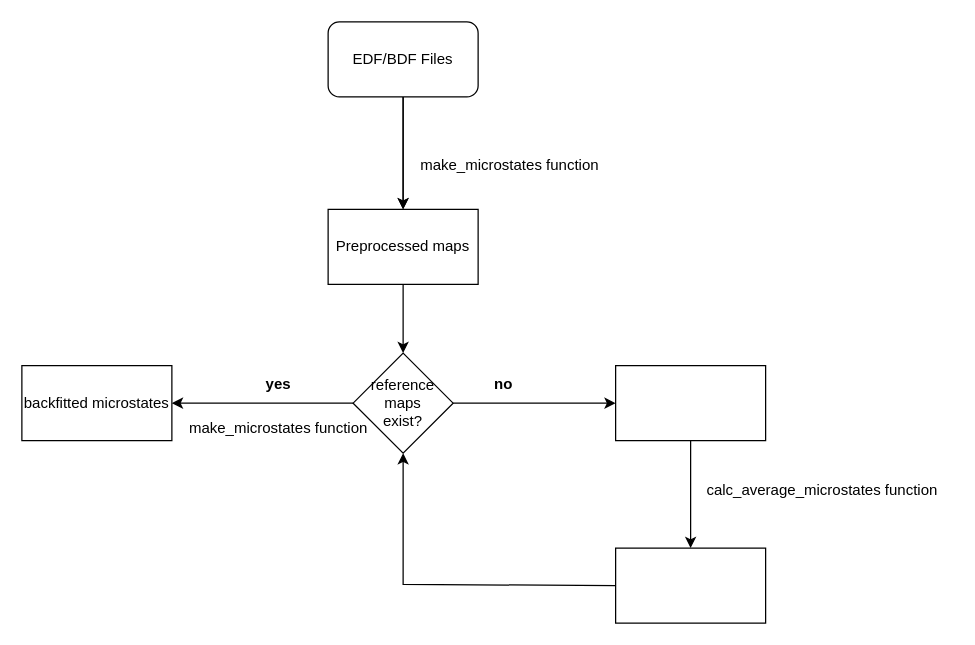
This 975x645 diagram has some shape labels left out. The shapes that lost their labels are listed below. From the top down, each one's centre as x and y in pixels, then its label:
[690,402]: connecting the maps by hand
[690,585]: calculate the average maps which will be the reference as well
